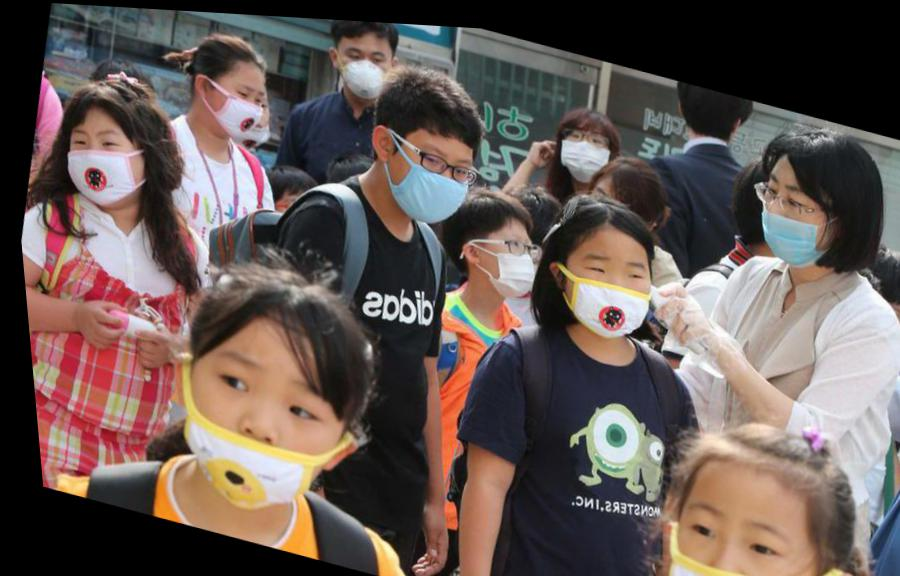OK: (555, 229, 660, 343), (378, 127, 482, 228), (55, 113, 144, 213), (472, 209, 543, 298), (330, 28, 396, 101), (211, 68, 271, 143), (553, 111, 616, 182)
WRONG: (157, 322, 348, 525), (642, 472, 812, 576), (748, 155, 838, 264)
